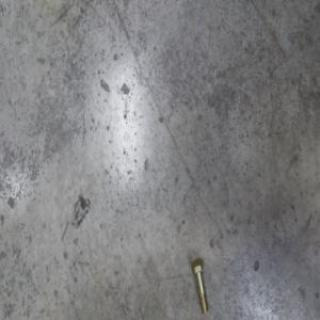Bolttrack_idkeyframe: (190, 256, 208, 313)
